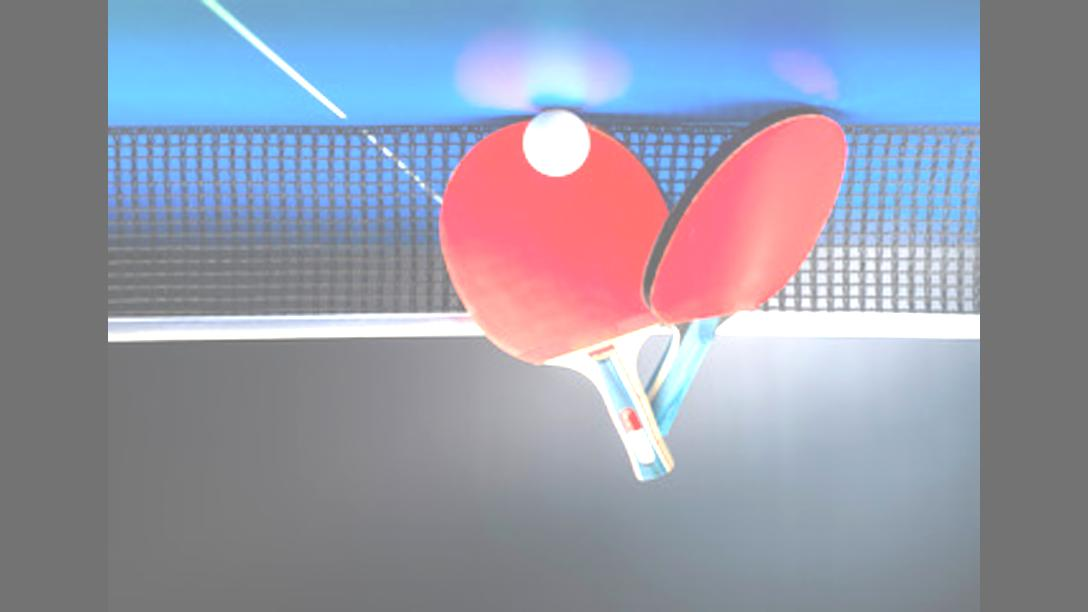Table-Tennis-Ball: (526, 113, 586, 176)
